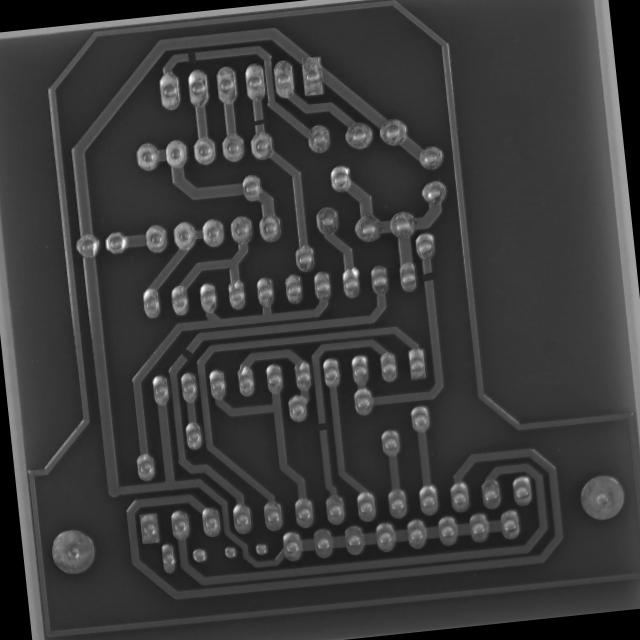open_circuit: (418, 264, 438, 288), (181, 46, 199, 66), (177, 344, 195, 364), (312, 417, 330, 436), (250, 113, 267, 130)
